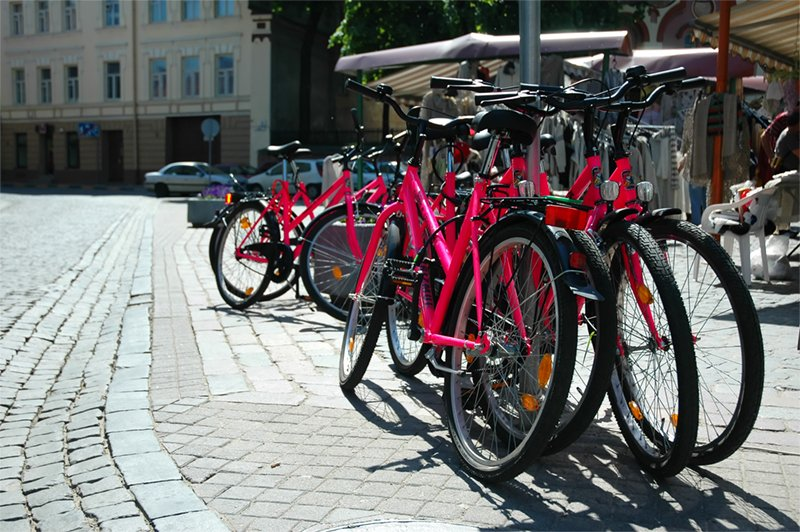Bicycle: (6, 20, 787, 531)
